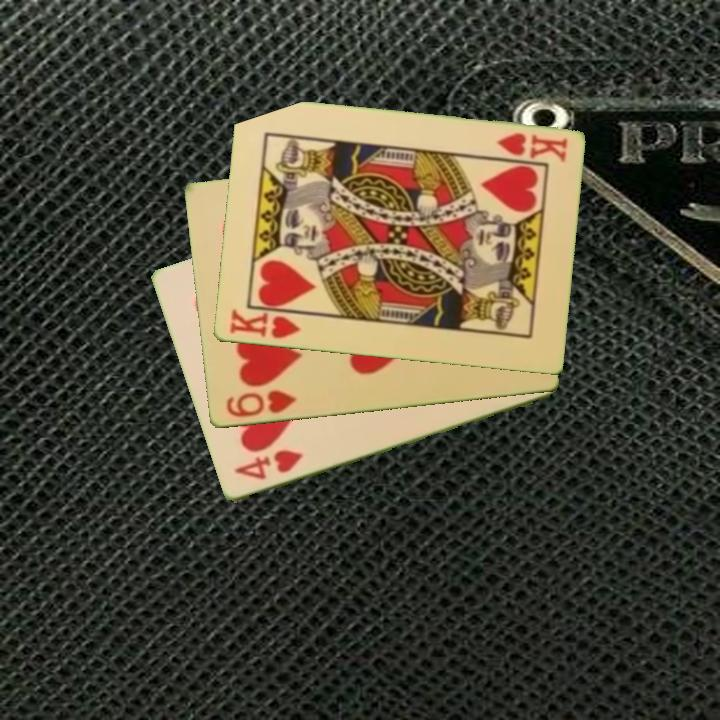4h: (231, 446, 306, 483)
6h: (222, 387, 300, 421)
Kh: (226, 305, 309, 342), (493, 129, 570, 165)
